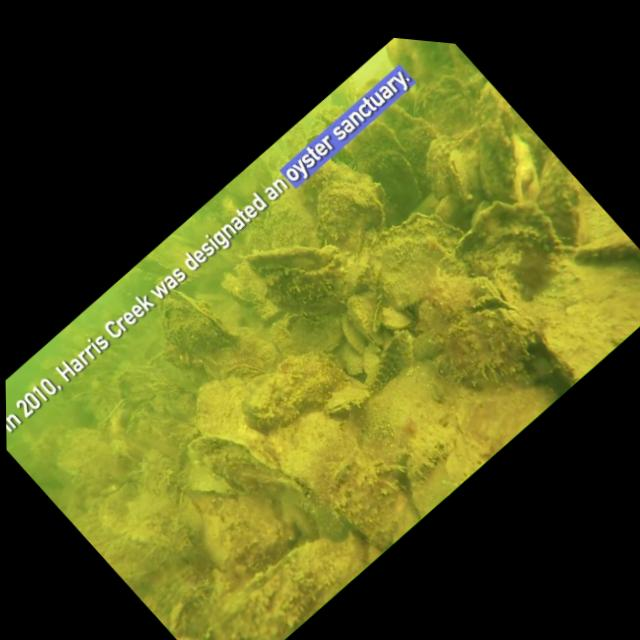Oyster-Closed: (134, 265, 247, 387), (432, 138, 501, 214)
Oyster-Indeterminate: (412, 266, 581, 448), (201, 489, 380, 640), (339, 179, 483, 334), (439, 170, 573, 313), (184, 402, 301, 529), (287, 152, 397, 271), (268, 392, 375, 507), (163, 348, 261, 454), (229, 354, 317, 447), (272, 140, 356, 229), (342, 94, 423, 182), (481, 127, 562, 215), (561, 208, 640, 296), (182, 500, 259, 583), (46, 413, 123, 495), (118, 388, 193, 469), (400, 120, 475, 200), (453, 72, 527, 152), (330, 278, 401, 356), (363, 141, 430, 214), (104, 345, 169, 415), (85, 382, 147, 449), (421, 177, 478, 239), (144, 362, 197, 420), (169, 489, 215, 539), (332, 307, 376, 355), (331, 337, 374, 383), (373, 297, 416, 343), (162, 518, 202, 562)
Oyster-Open: (237, 201, 370, 344), (373, 36, 471, 110), (314, 364, 380, 436), (361, 445, 417, 504), (219, 343, 273, 401), (158, 592, 202, 639)
